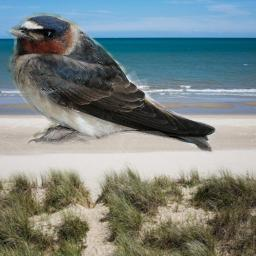Swallow: (3, 12, 219, 154)
